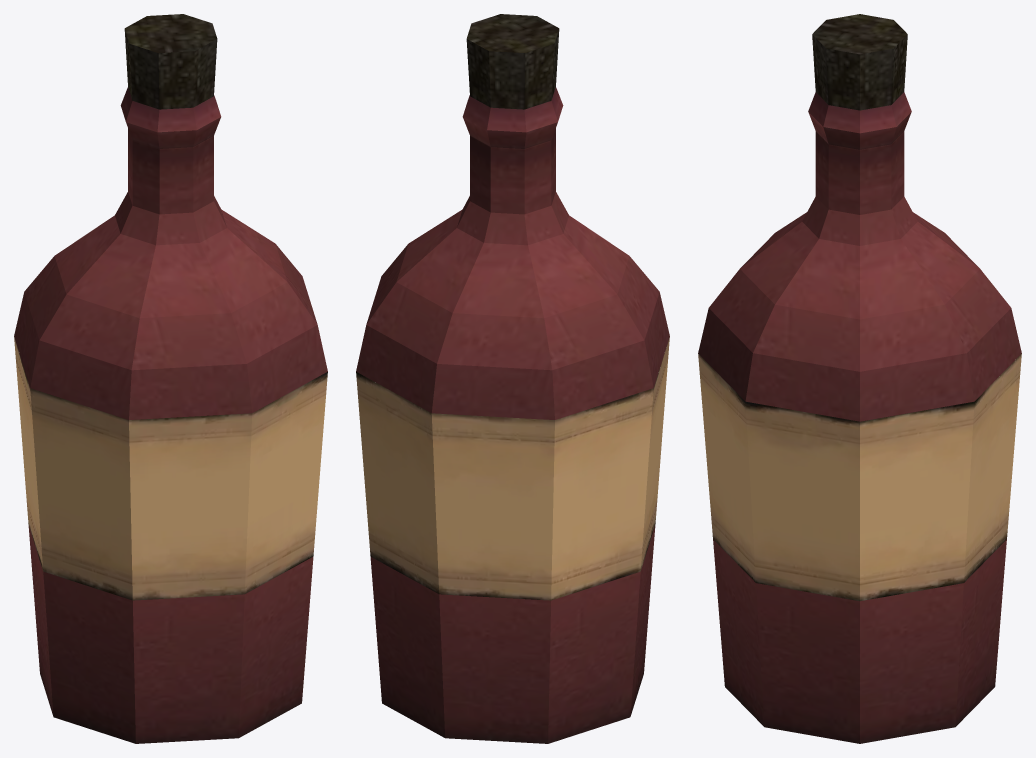
The model's file is KM_NEW_BOTTLE_09.glb.
3 renders of one model, left to right at view 1: azimuth 30°, elevation 25°; view 2: azimuth 150°, elevation 25°; view 3: azimuth 270°, elevation 25°, orthographic.
Parts seen in each view (by area): view 1: KM_NEW_BOTTLE_09; view 2: KM_NEW_BOTTLE_09; view 3: KM_NEW_BOTTLE_09.
Boxes of the visible parts, x1,y1,x2,y2 form: KM_NEW_BOTTLE_09: (14, 14, 327, 743); KM_NEW_BOTTLE_09: (356, 14, 669, 743); KM_NEW_BOTTLE_09: (698, 14, 1021, 743).
Bounding box in the file's own units: 0.1474 × 0.3277 × 0.1474.
Materials: 2 (2 with a texture image).
